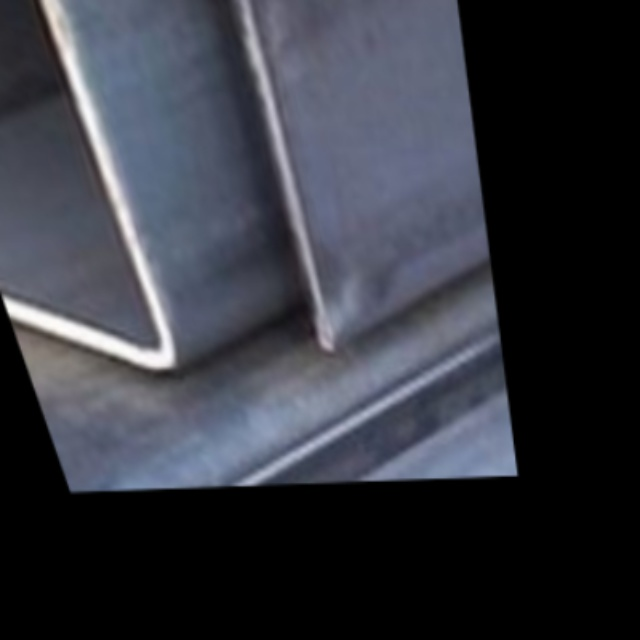Shveller: (0, 0, 328, 349), (0, 0, 169, 361)
